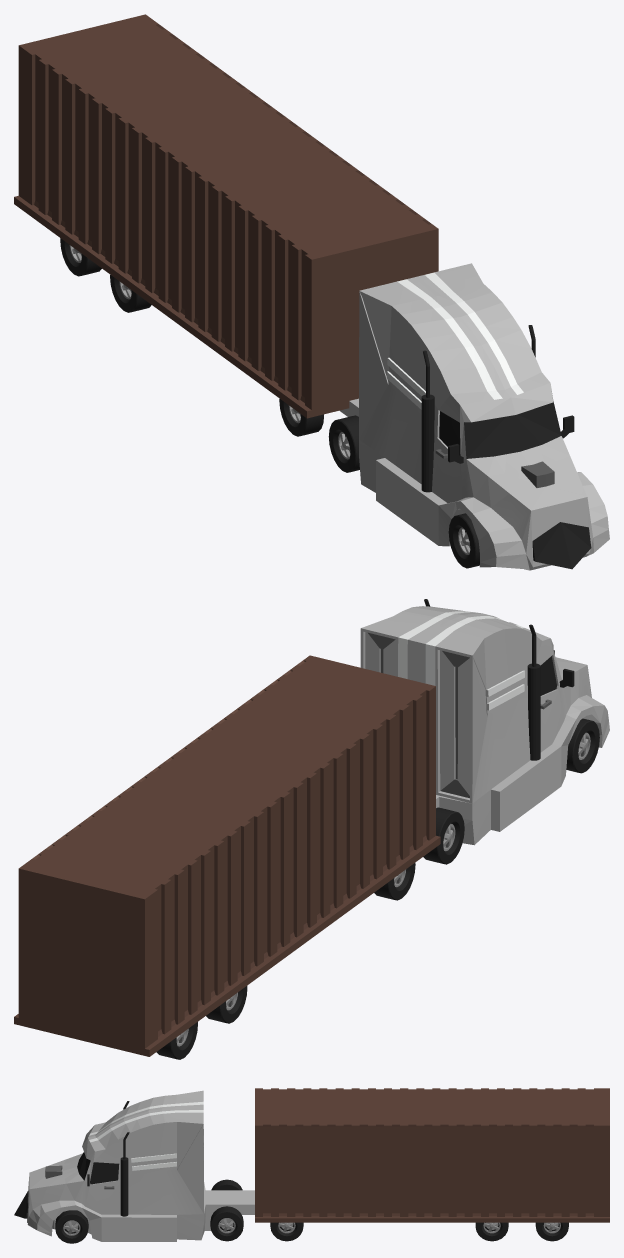
File: TruckWithContainerFixNormals.fbx
3 views of the same model, one above another, from view 1: azimuth 30°, elevation 25°; view 2: azimuth 150°, elevation 25°; view 3: azimuth 270°, elevation 25° (orthographic). The views are drawn at different scales.
Visible parts, largest first — view 1: Container, Truck, 2R, 1R, ContainerDoor, 3R, 5L.001, 4L.001; view 2: Container, Truck, 2R, 1R, ContainerDoor, 4L.001, 5L.001, 3R; view 3: ContainerDoor, Truck, Container, 2L, 1L, 5L, 3L, 4L, 2R.
Boxes of the visible parts, left/top/right/bottom form: Container: left=14, top=14, right=438, bottom=418; Truck: left=340, top=263, right=609, bottom=570; 2R: left=328, top=415, right=359, bottom=472; 1R: left=448, top=513, right=479, bottom=568; ContainerDoor: left=141, top=14, right=438, bottom=229; 3R: left=279, top=399, right=323, bottom=436; 5L.001: left=60, top=238, right=101, bottom=276; 4L.001: left=110, top=275, right=151, bottom=312; Container: left=18, top=656, right=440, bottom=1056; Truck: left=360, top=599, right=609, bottom=845; 2R: left=423, top=807, right=464, bottom=864; 1R: left=566, top=718, right=599, bottom=773; ContainerDoor: left=14, top=655, right=314, bottom=1024; 4L.001: left=206, top=986, right=247, bottom=1023; 5L.001: left=156, top=1022, right=197, bottom=1059; 3R: left=374, top=863, right=415, bottom=900; ContainerDoor: left=255, top=1124, right=609, bottom=1222; Truck: left=14, top=1090, right=254, bottom=1241; Container: left=255, top=1088, right=609, bottom=1216; 2L: left=210, top=1206, right=243, bottom=1241; 1L: left=55, top=1210, right=88, bottom=1243; 5L: left=535, top=1222, right=568, bottom=1241; 3L: left=270, top=1222, right=303, bottom=1241; 4L: left=475, top=1222, right=508, bottom=1241; 2R: left=211, top=1179, right=242, bottom=1190.
Size of the model in its own units: 284 by 391 by 1774.
1 material, 1 textured.
